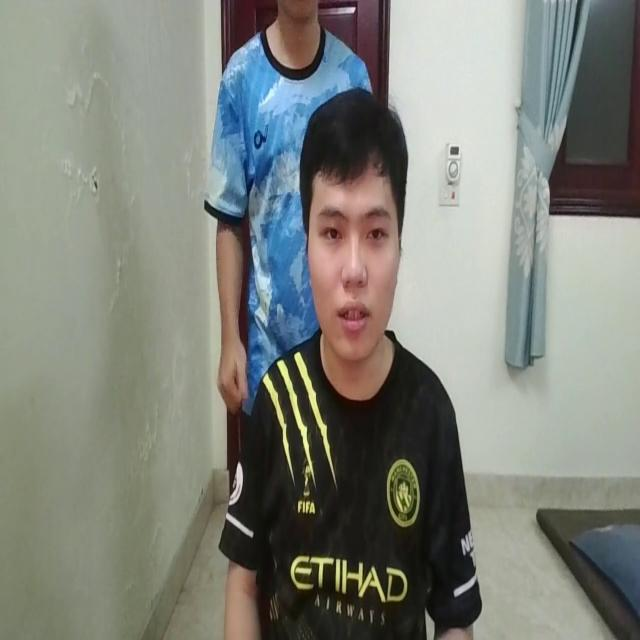extra_person: (209, 0, 344, 395)
student: (226, 90, 479, 640)
